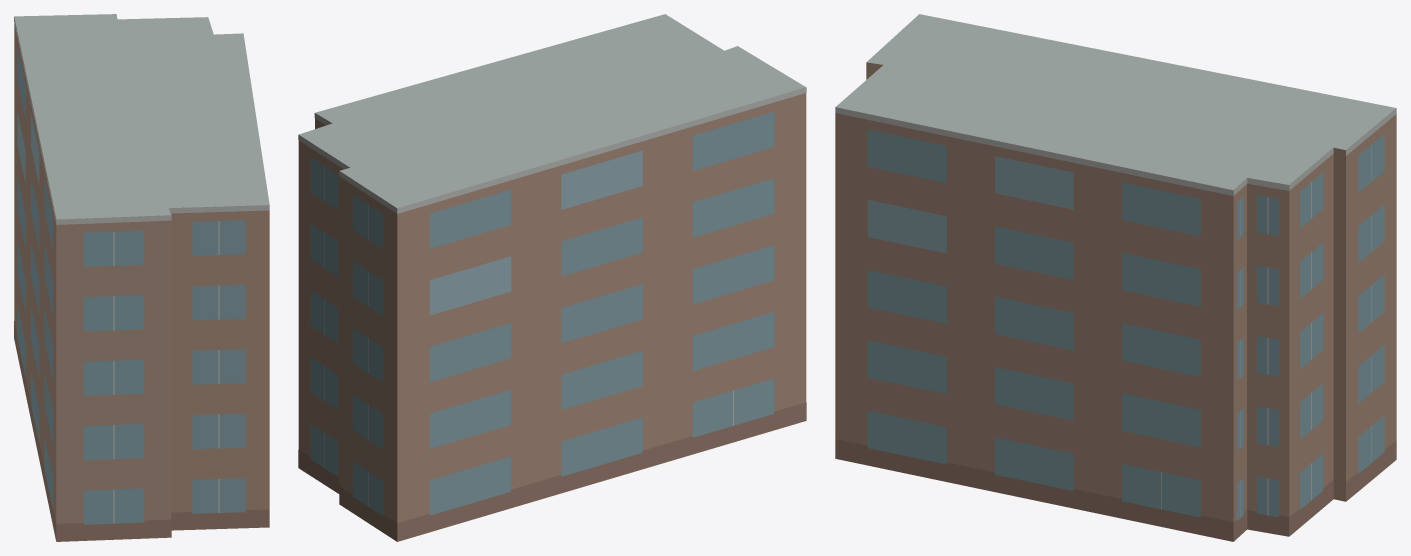
File: survey-upis-32947525.glb
The picture shows the model from 3 angles, left to right: view 1: azimuth 30°, elevation 25°; view 2: azimuth 150°, elevation 25°; view 3: azimuth 270°, elevation 25°; orthographic projection. The views are drawn at different scales.
Visible parts, largest first — view 1: survey-upis-32947525.tmp; view 2: survey-upis-32947525.tmp; view 3: survey-upis-32947525.tmp.
Boxes of the visible parts, x1,y1,x2,y2 form: survey-upis-32947525.tmp: (14,14,269,541); survey-upis-32947525.tmp: (298,14,806,541); survey-upis-32947525.tmp: (835,14,1396,541).
Bounding box in the file's own units: 15.71 × 14.6 × 21.13.
